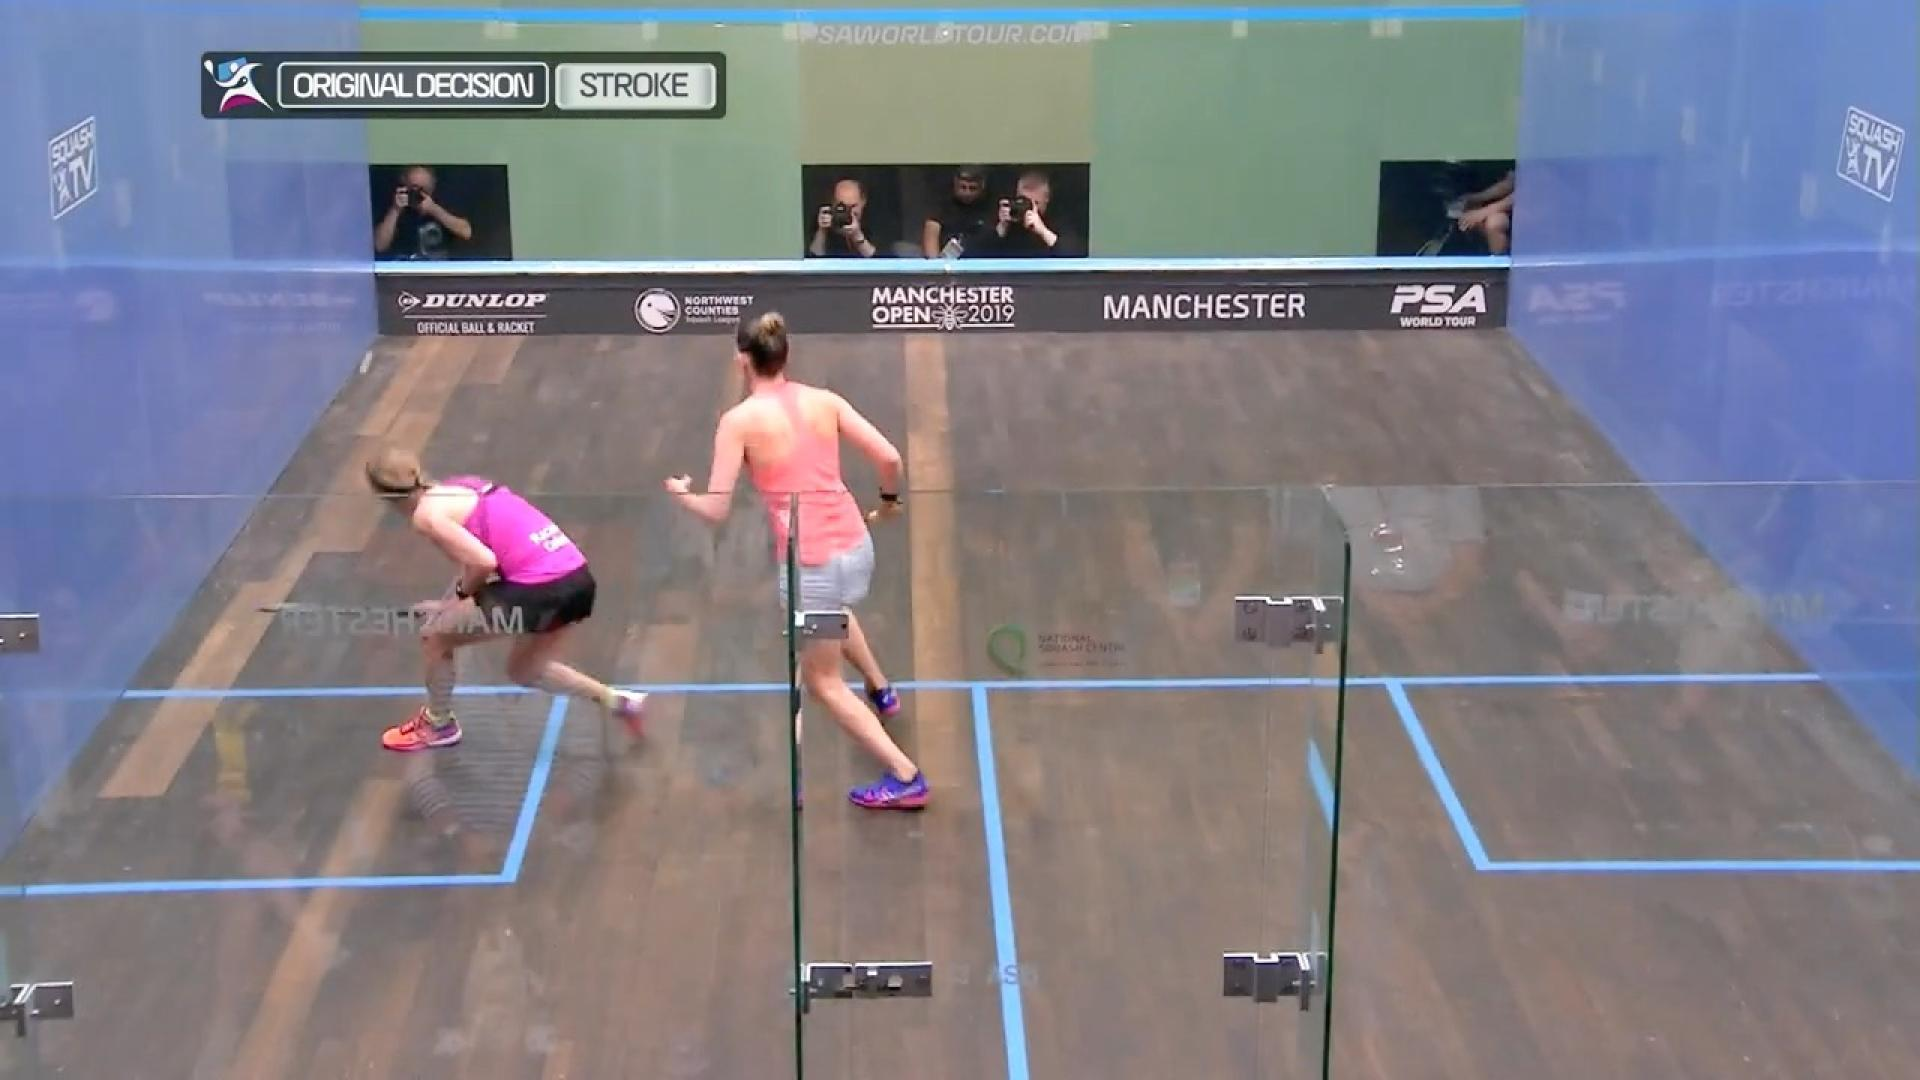Squash-Ball: (338, 324, 400, 400)
